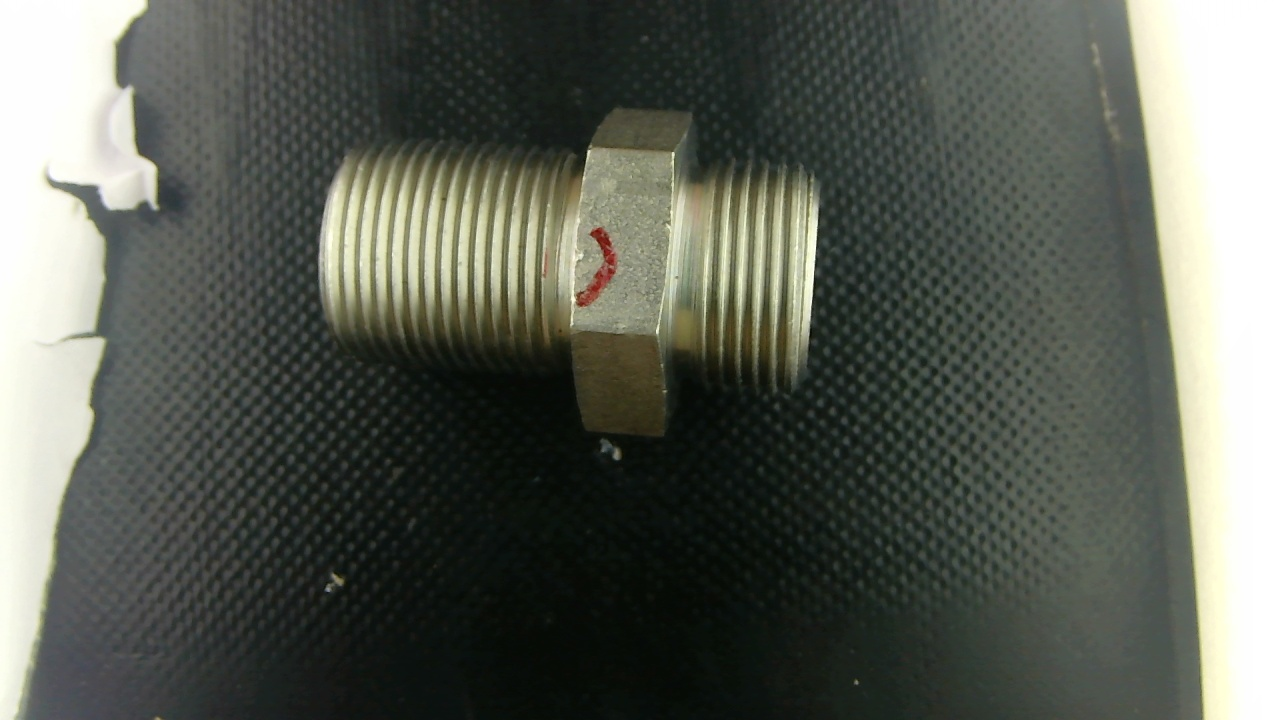SurfaceDent_Adaptor: (573, 244, 584, 260)
